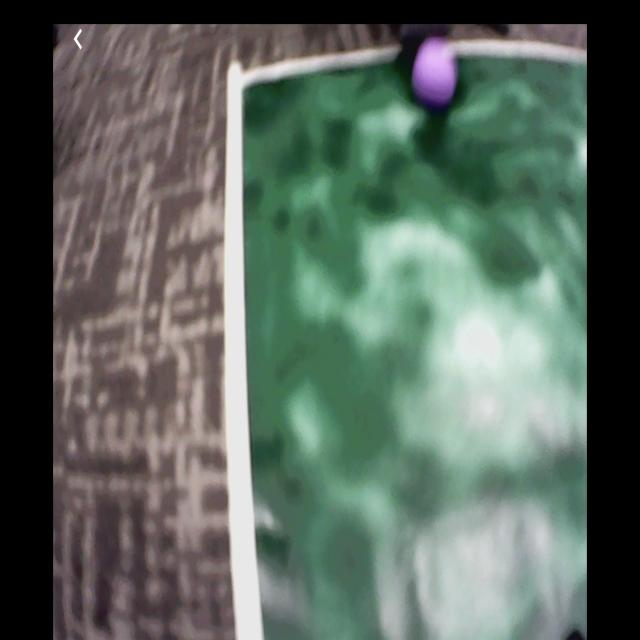ball: (414, 45, 458, 105)
